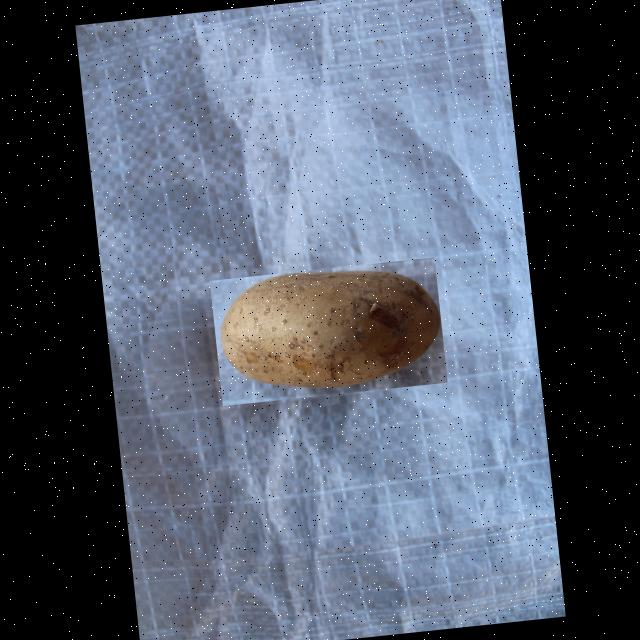Diseased-fungal potato: (209, 256, 447, 404)
